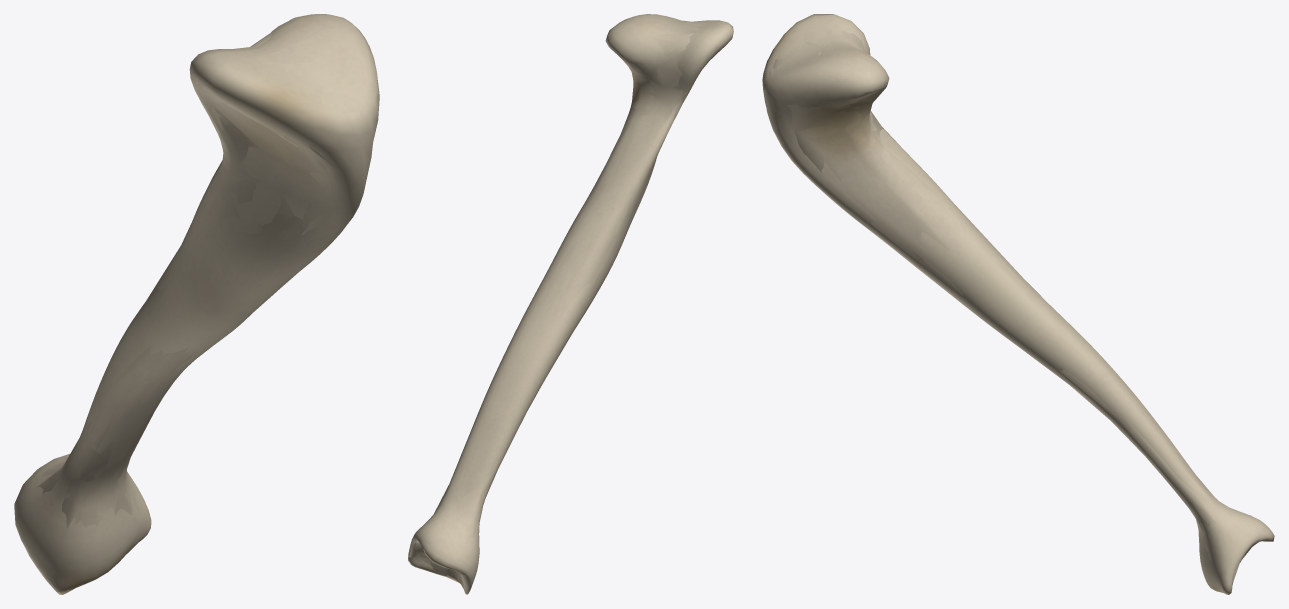
Rendered from L Tibia.fbx.
3 renders of one model, left to right at view 1: azimuth 30°, elevation 25°; view 2: azimuth 150°, elevation 25°; view 3: azimuth 270°, elevation 25°, orthographic. The views are drawn at different scales.
Parts seen in each view (by area): view 1: L Tibia high, L Tibia low, L Tibia; view 2: L Tibia high, L Tibia low, L Tibia; view 3: L Tibia high, L Tibia low, L Tibia.
Part boxes in pixels (bbox=[...]): L Tibia high: bbox=[14, 14, 379, 594]; L Tibia low: bbox=[37, 30, 349, 529]; L Tibia: bbox=[34, 38, 356, 592]; L Tibia high: bbox=[408, 14, 733, 594]; L Tibia low: bbox=[409, 20, 698, 589]; L Tibia: bbox=[409, 17, 719, 584]; L Tibia high: bbox=[762, 14, 1274, 594]; L Tibia low: bbox=[773, 29, 1253, 585]; L Tibia: bbox=[769, 28, 1259, 592].
Bounding box in the file's own units: 10.41 × 31.45 × 27.7.
